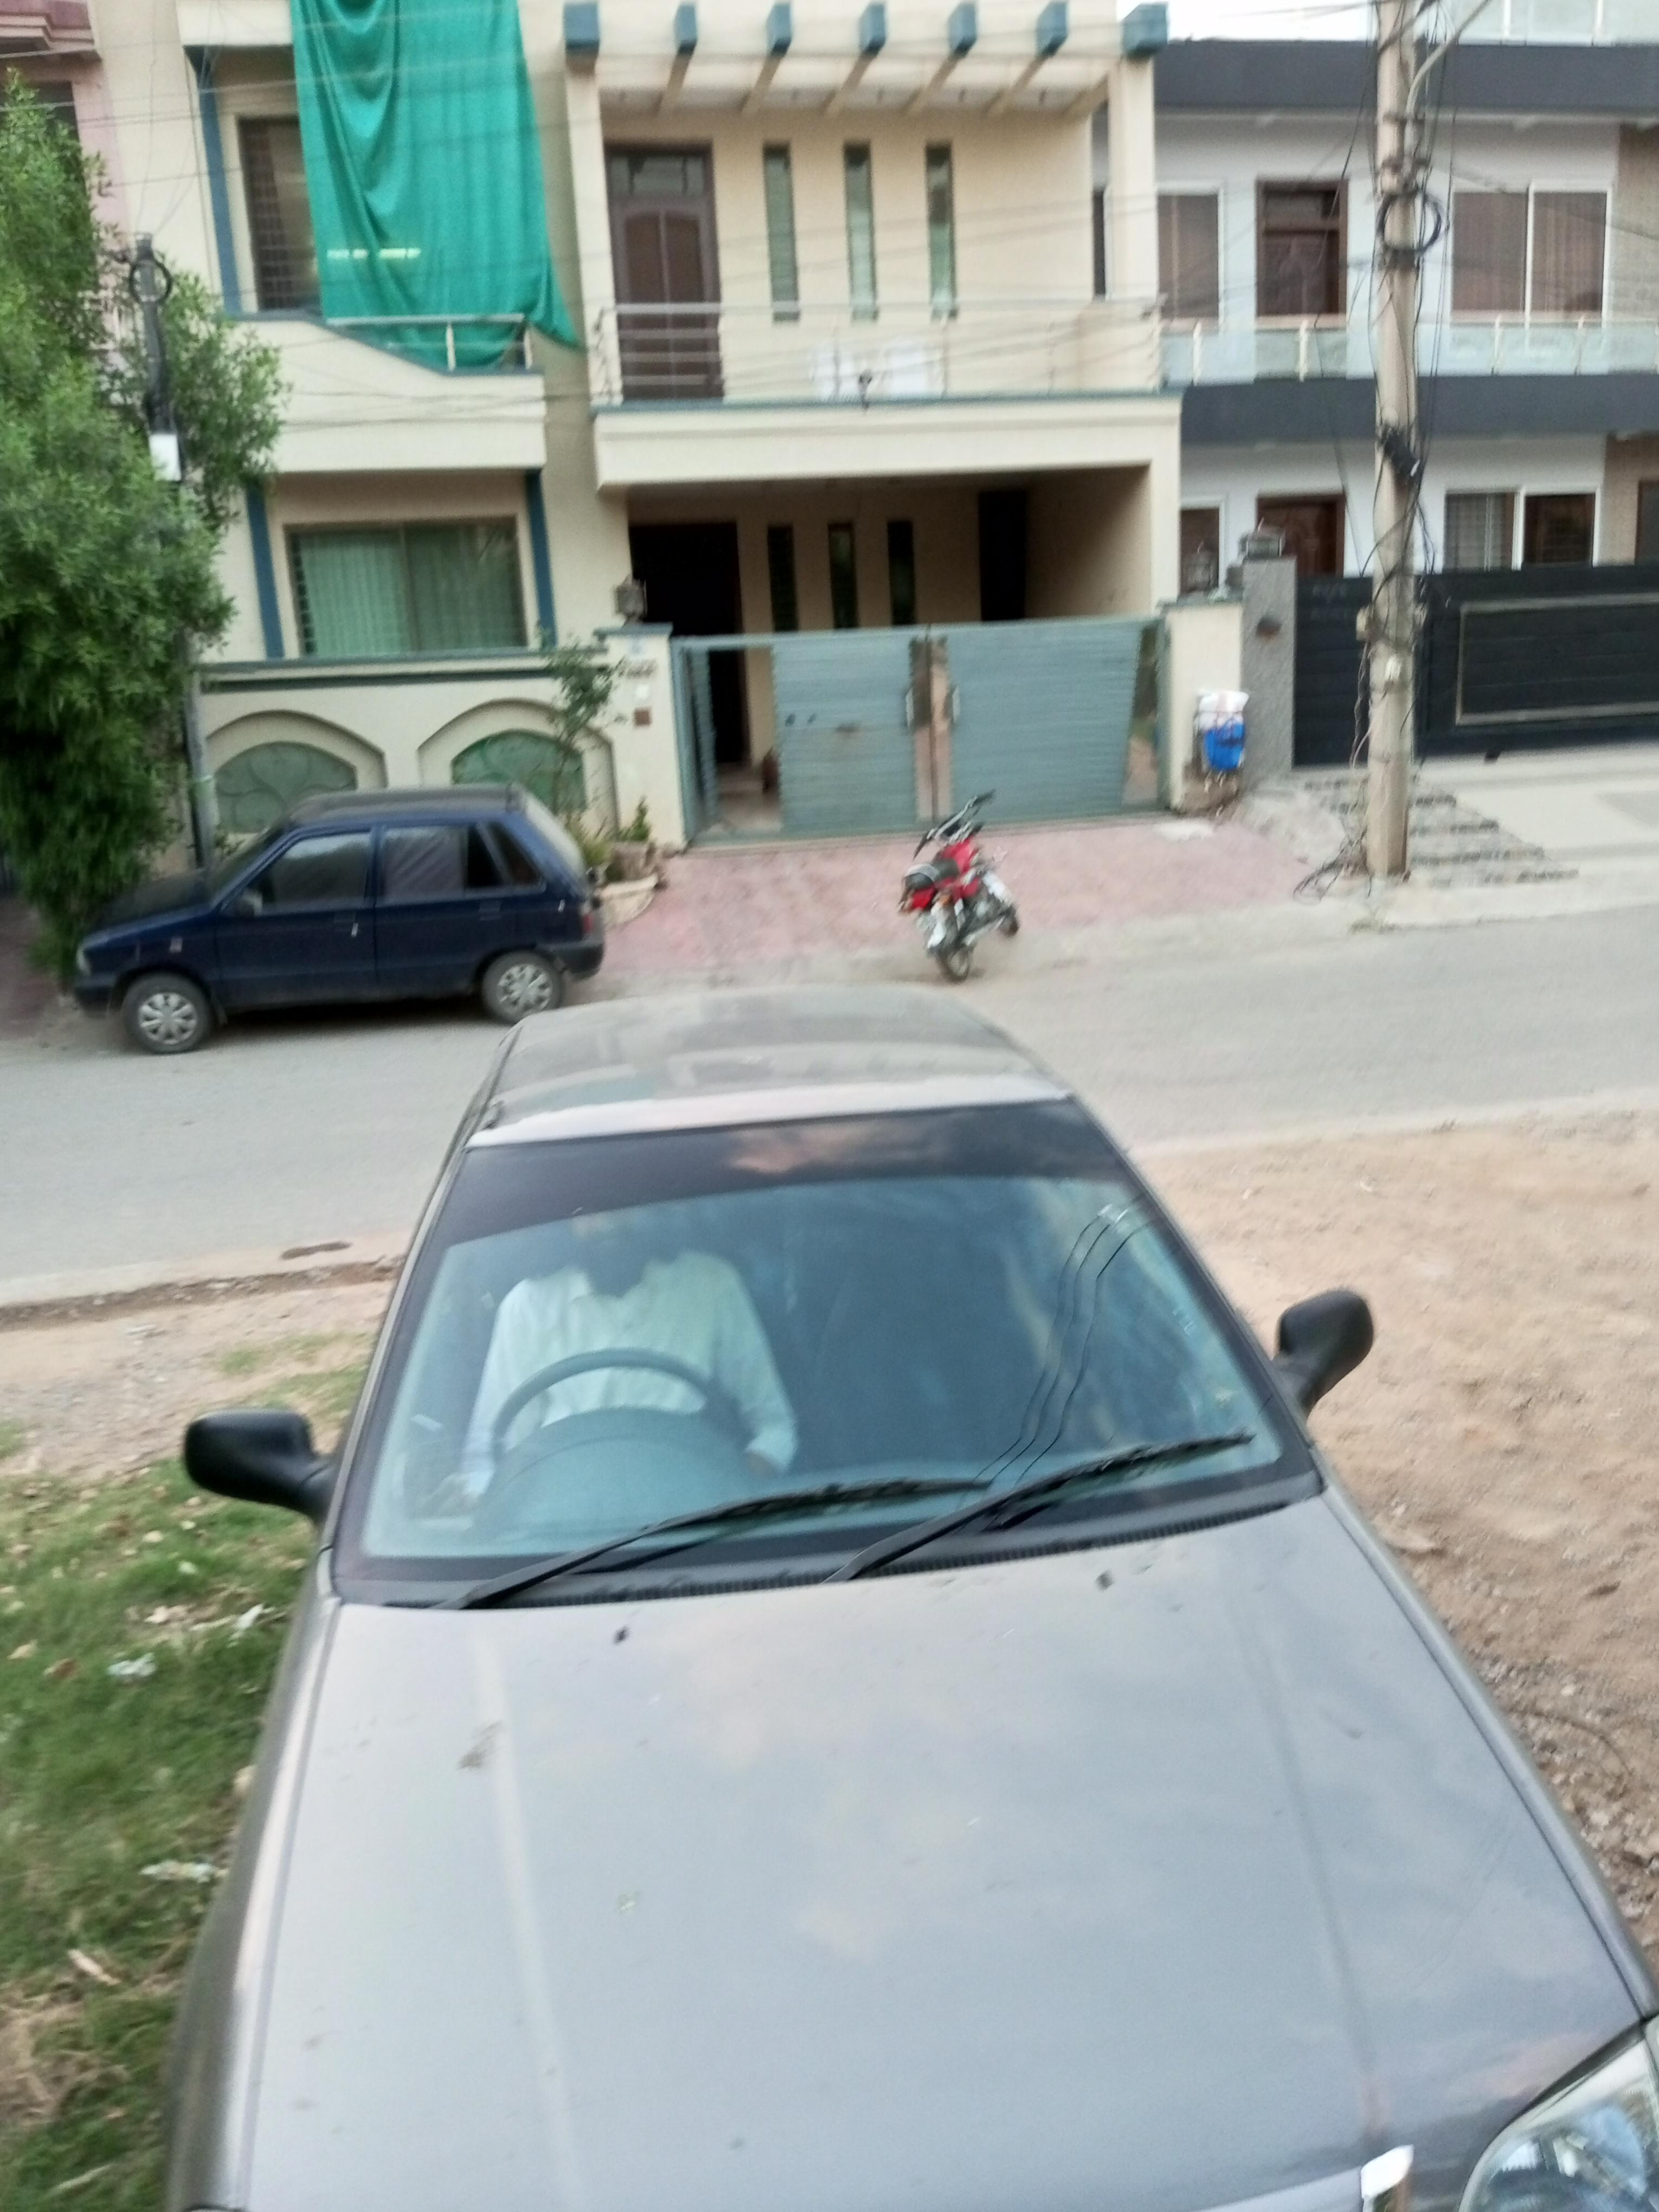windshield: (310, 1096, 1351, 1609)
